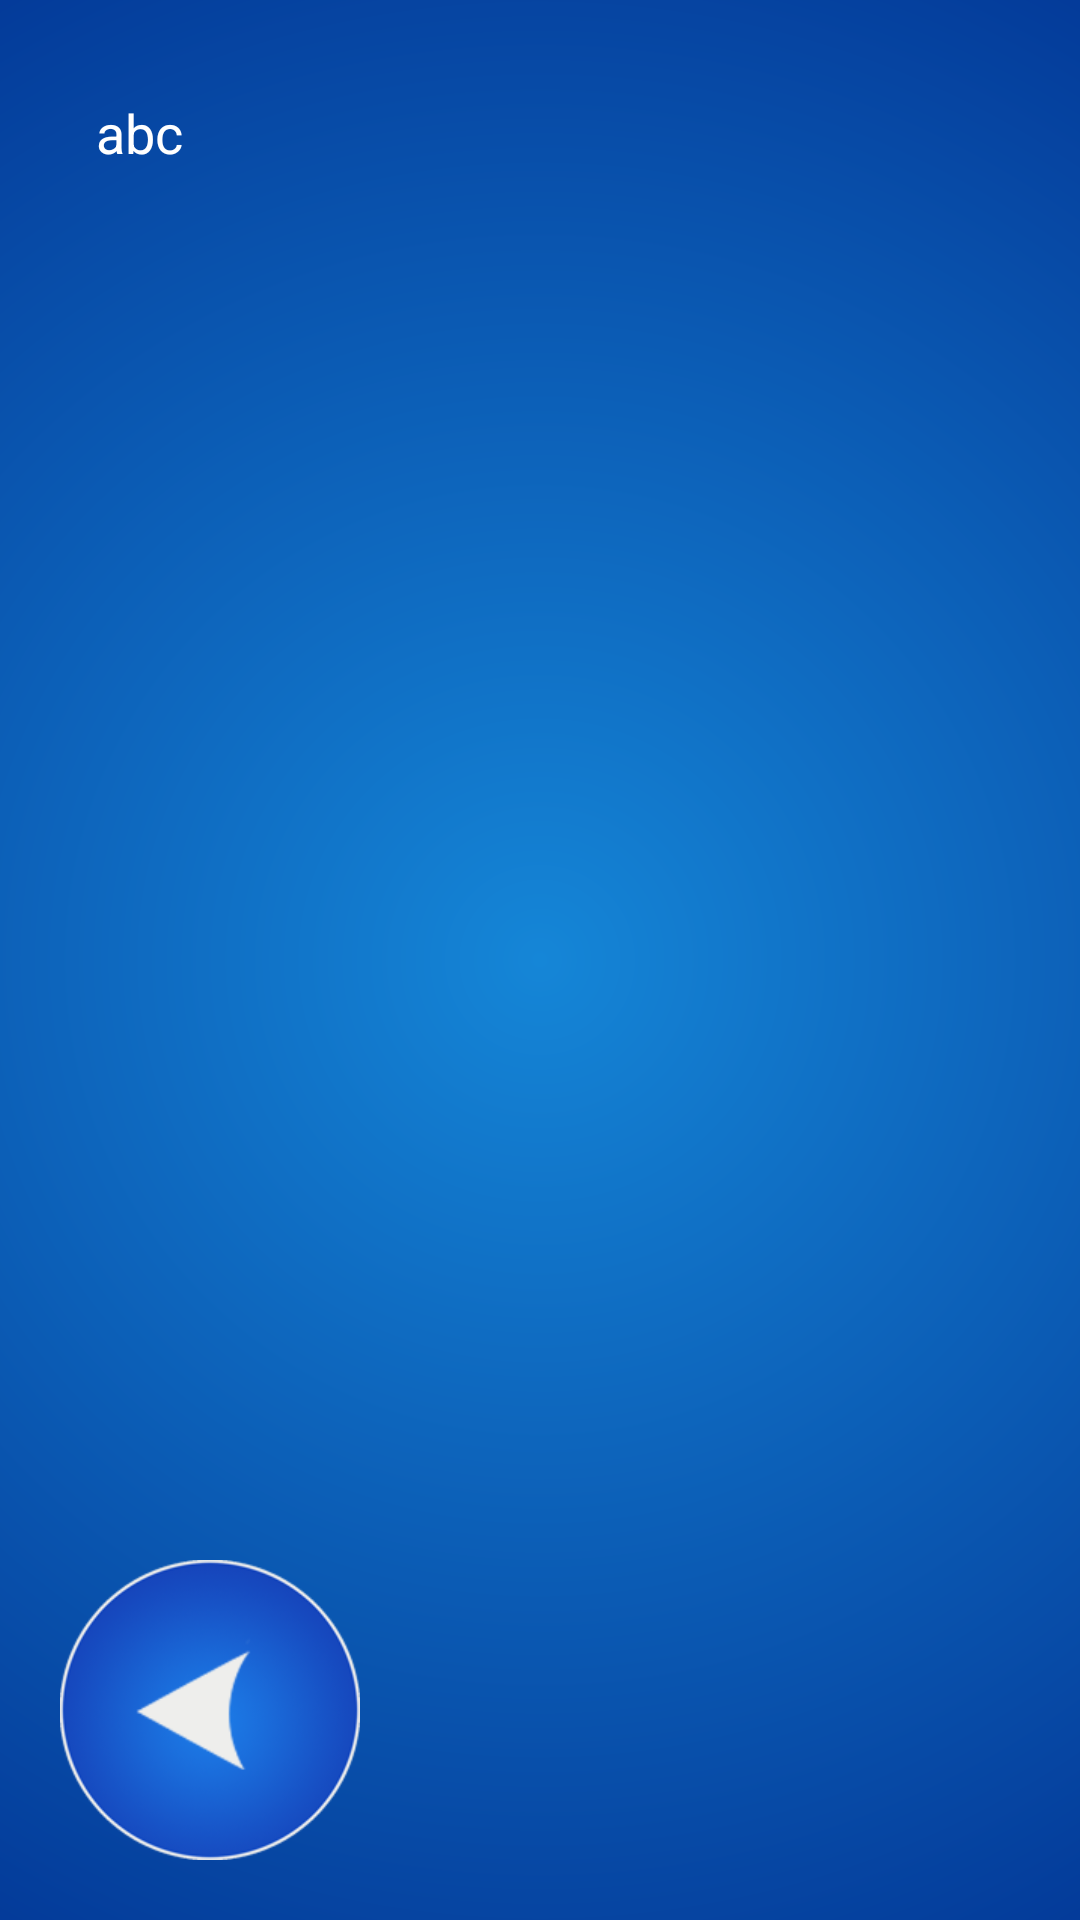

Icons on this 1080 x 1920 Android screen, each with its box as (x1, y1, x2, y2):
back: (60, 1560, 360, 1860)
